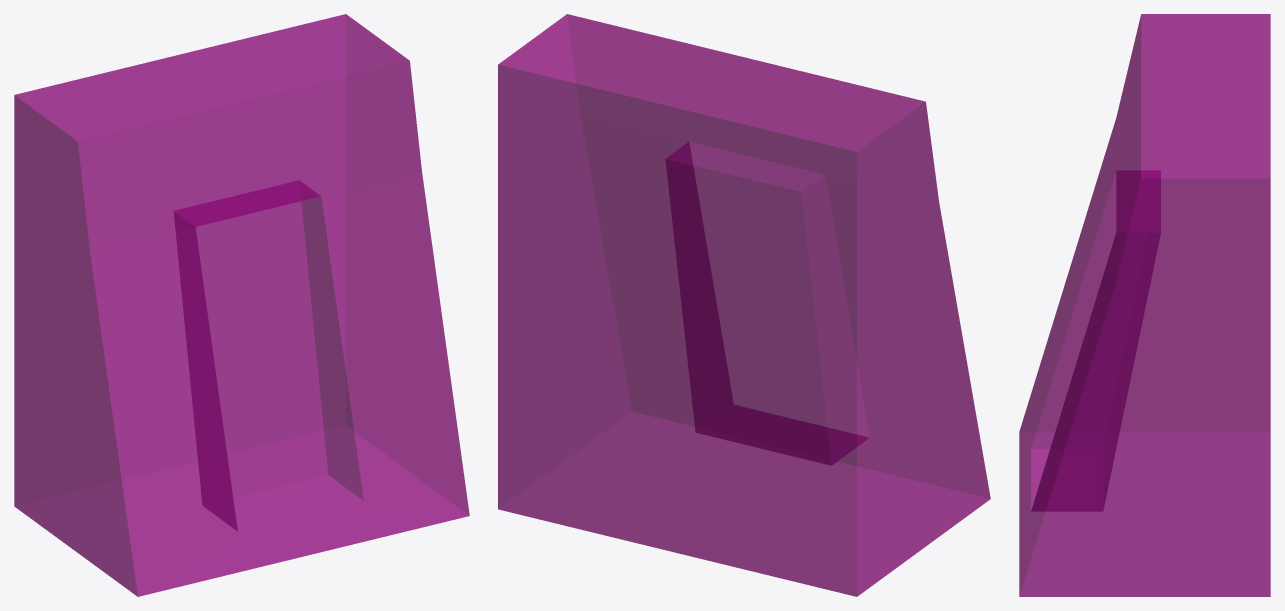
File: SM_Bld_Wall_Temple_Ground_02_Collision.fbx
3 views of the same model, side by side, from view 1: azimuth 30°, elevation 25°; view 2: azimuth 150°, elevation 25°; view 3: azimuth 270°, elevation 25° (orthographic). The views are drawn at different scales.
Parts seen in each view (by area): view 1: SM_Bld_Wall_Temple_Ground_02_Collision; view 2: SM_Bld_Wall_Temple_Ground_02_Collision; view 3: SM_Bld_Wall_Temple_Ground_02_Collision.
Part boxes in pixels (x1,y1,x2,y2): SM_Bld_Wall_Temple_Ground_02_Collision: (14,14,469,596); SM_Bld_Wall_Temple_Ground_02_Collision: (498,14,990,596); SM_Bld_Wall_Temple_Ground_02_Collision: (1019,14,1270,596).
Size of the model in its own units: 509 by 603 by 329.
